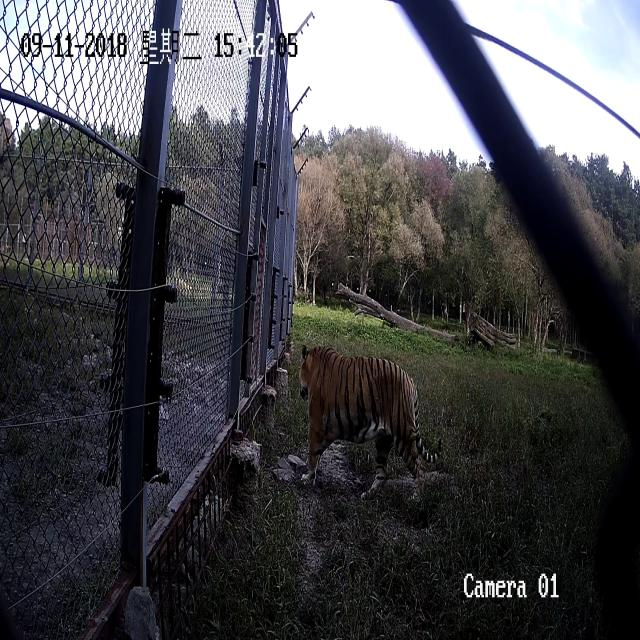Tiger: (297, 344, 442, 502)
